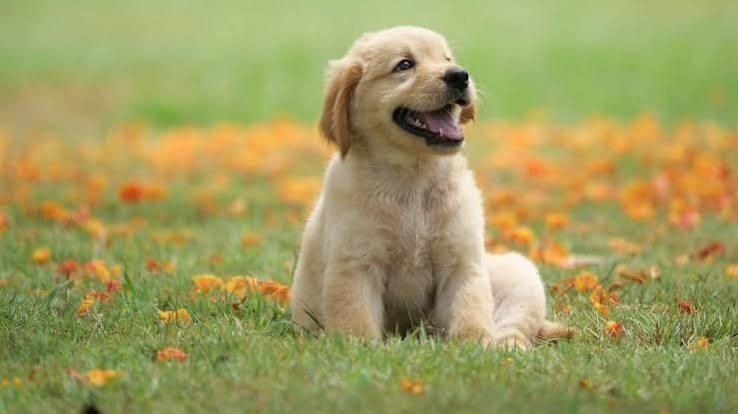puppy-dog: (289, 26, 579, 356)
